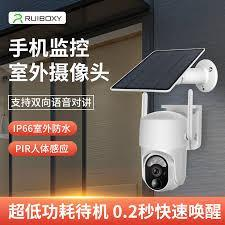maru: (140, 106, 192, 191)
